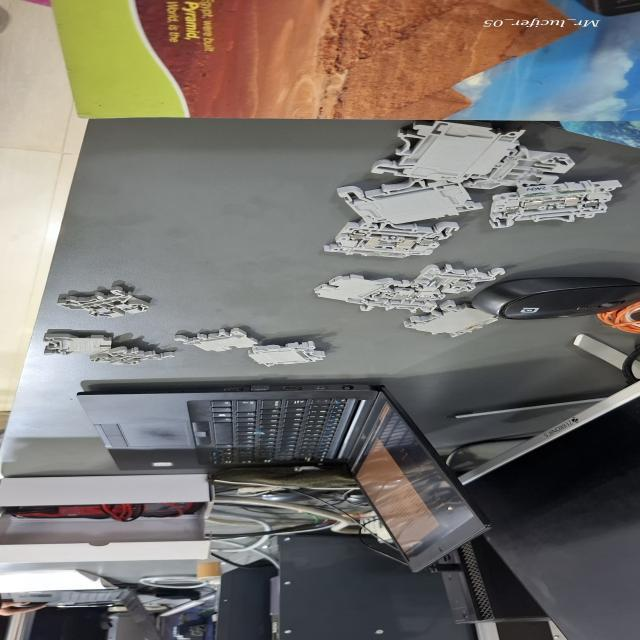Inverted: (307, 271, 414, 305), (169, 325, 276, 353), (34, 328, 115, 359)
Pass: (50, 282, 168, 321), (357, 286, 450, 314), (83, 346, 177, 366)
Reject: (408, 264, 514, 296)
